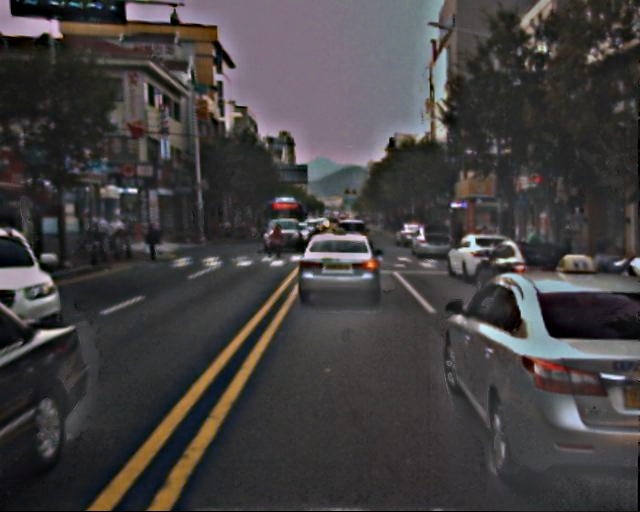person: (583, 237, 631, 355), (88, 220, 162, 262), (559, 219, 580, 271), (268, 222, 284, 260), (261, 230, 271, 255)
